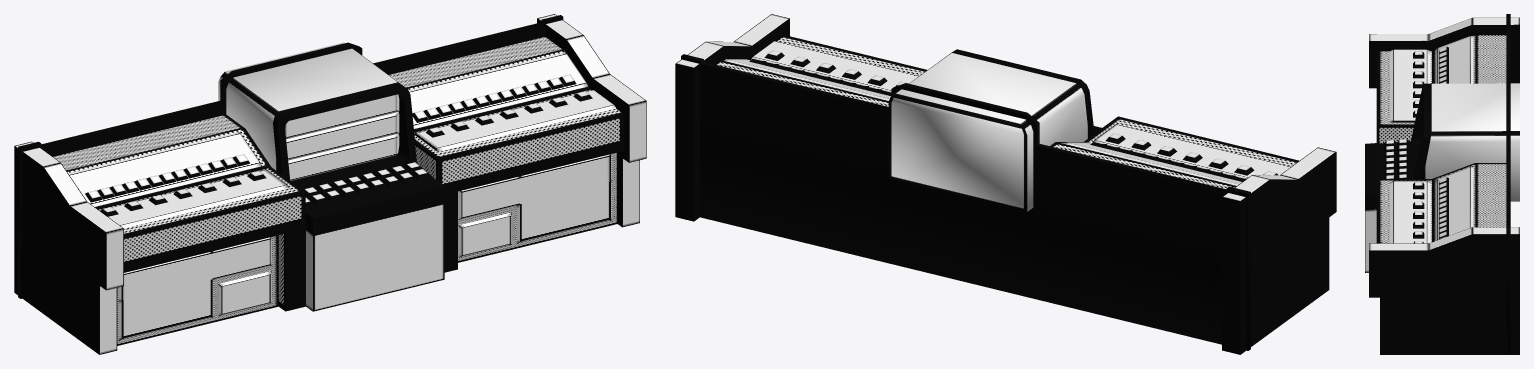
File: Kiosco.glb
3 views of the same model, side by side, from view 1: azimuth 30°, elevation 25°; view 2: azimuth 150°, elevation 25°; view 3: azimuth 270°, elevation 25° (orthographic). The views are drawn at different scales.
Parts seen in each view (by area): view 1: Kiosco; view 2: Kiosco; view 3: Kiosco.
Boxes of the visible parts, x1=… form: Kiosco: x1=14, y1=14, x2=646, y2=354; Kiosco: x1=675, y1=14, x2=1336, y2=354; Kiosco: x1=1365, y1=14, x2=1519, y2=354.
Bounding box in the file's own units: 5.75 × 1.76 × 1.73.
Materials: 4 (2 with a texture image).
